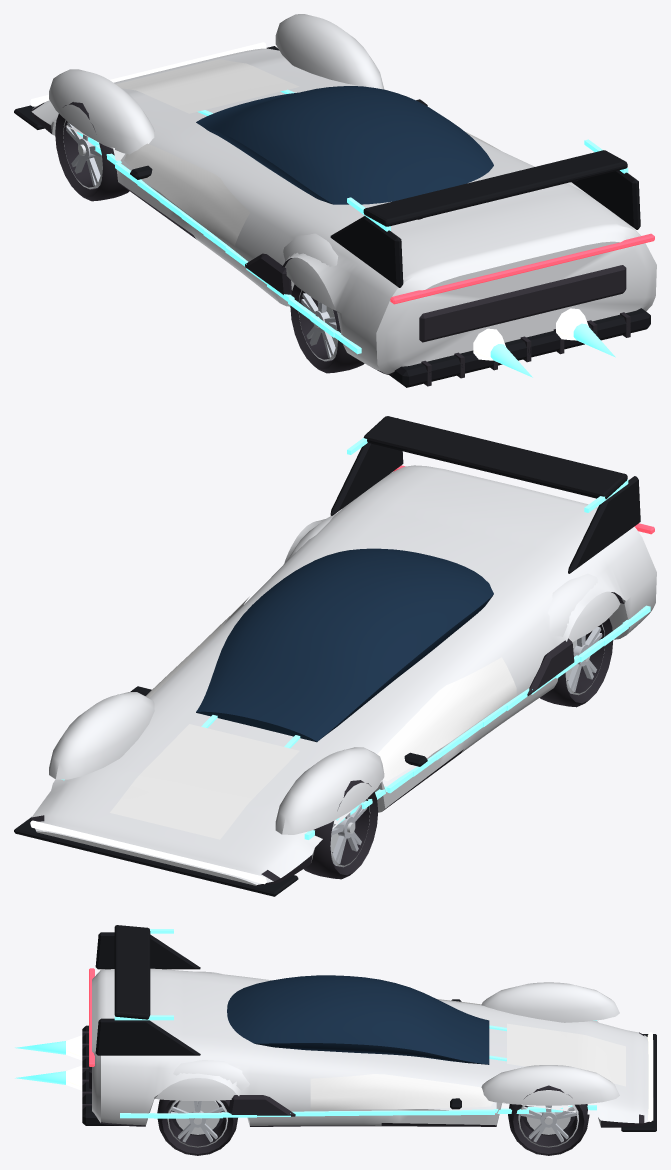
Rendered from car_concept.glb.
3 renders of one model, top to bottom at view 1: azimuth 30°, elevation 25°; view 2: azimuth 150°, elevation 25°; view 3: azimuth 270°, elevation 25°, orthographic. The views are drawn at different scales.
Parts seen in each view (by area): view 1: Body, Vinyl, Spoiler, WheelFL, WheelRL, NitroFlame; view 2: Body, Vinyl, Spoiler, WheelFL, WheelRL; view 3: Body, Vinyl, Spoiler, WheelRR, WheelFR, NitroFlame.
Part boxes in pixels (left/top/right/bottom): Body: left=14, top=14, right=656, bottom=387; Vinyl: left=116, top=59, right=498, bottom=250; Spoiler: left=363, top=150, right=627, bottom=226; WheelFL: left=55, top=102, right=129, bottom=201; WheelRL: left=290, top=284, right=364, bottom=373; NitroFlame: left=473, top=308, right=615, bottom=377; Body: left=14, top=418, right=656, bottom=896; Vinyl: left=110, top=597, right=516, bottom=839; Spoiler: left=363, top=416, right=627, bottom=499; WheelFL: left=304, top=780, right=378, bottom=879; WheelRL: left=540, top=618, right=613, bottom=707; Body: left=82, top=929, right=656, bottom=1131; Vinyl: left=310, top=999, right=625, bottom=1109; Spoiler: left=114, top=925, right=150, bottom=1019; WheelRR: left=157, top=1099, right=237, bottom=1155; WheelFR: left=508, top=1085, right=589, bottom=1155; NitroFlame: left=15, top=1035, right=82, bottom=1090.
Size of the model in its own units: 2.14 by 1.3 by 5.41.
